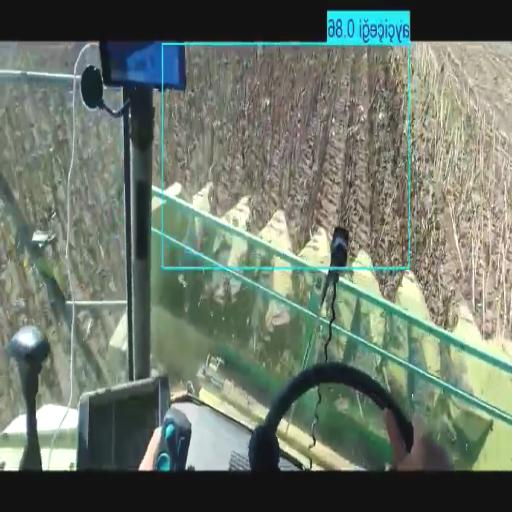ayc: (170, 48, 407, 263)
